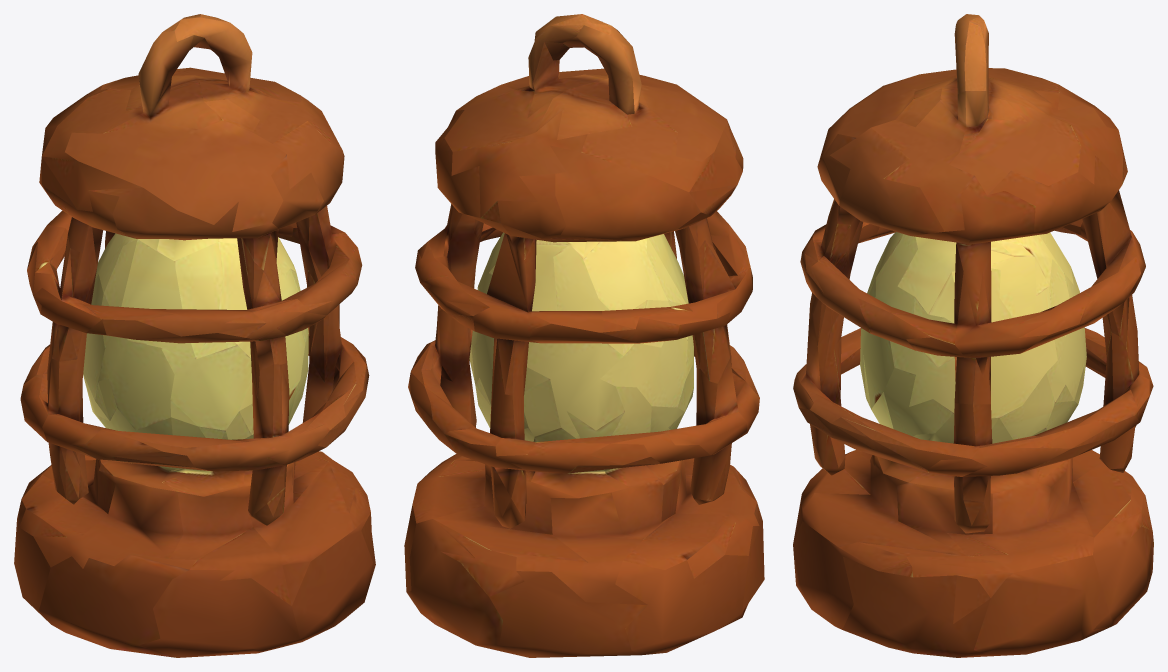
Rendered from cave-lantern.glb.
3 renders of one model, left to right at view 1: azimuth 30°, elevation 25°; view 2: azimuth 150°, elevation 25°; view 3: azimuth 270°, elevation 25°, orthographic.
Visible parts, largest first — view 1: cave-lantern; view 2: cave-lantern; view 3: cave-lantern.
Part boxes in pixels (left/top/right/bottom): cave-lantern: left=14, top=14, right=375, bottom=657; cave-lantern: left=404, top=14, right=764, bottom=657; cave-lantern: left=793, top=14, right=1153, bottom=657.
Size of the model in its own units: 1.1 by 1.9 by 1.1.
1 material, 1 textured.
